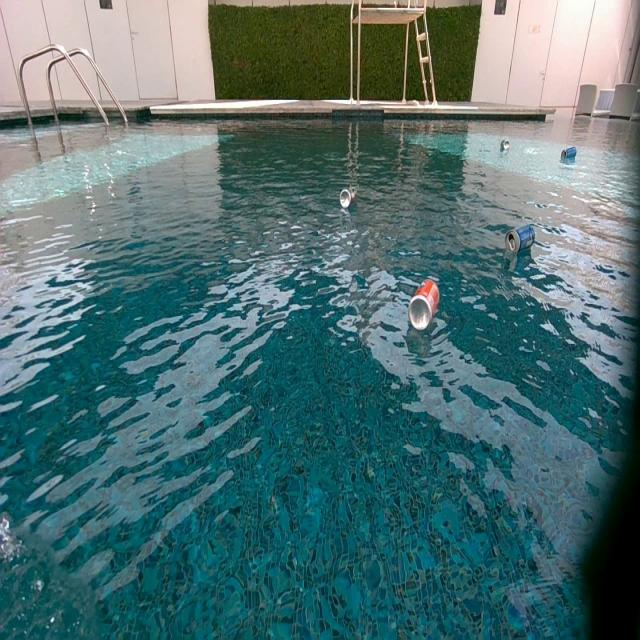Cans: (408, 278, 441, 334), (507, 222, 538, 256), (340, 187, 356, 207), (560, 146, 576, 160), (500, 138, 510, 151)
